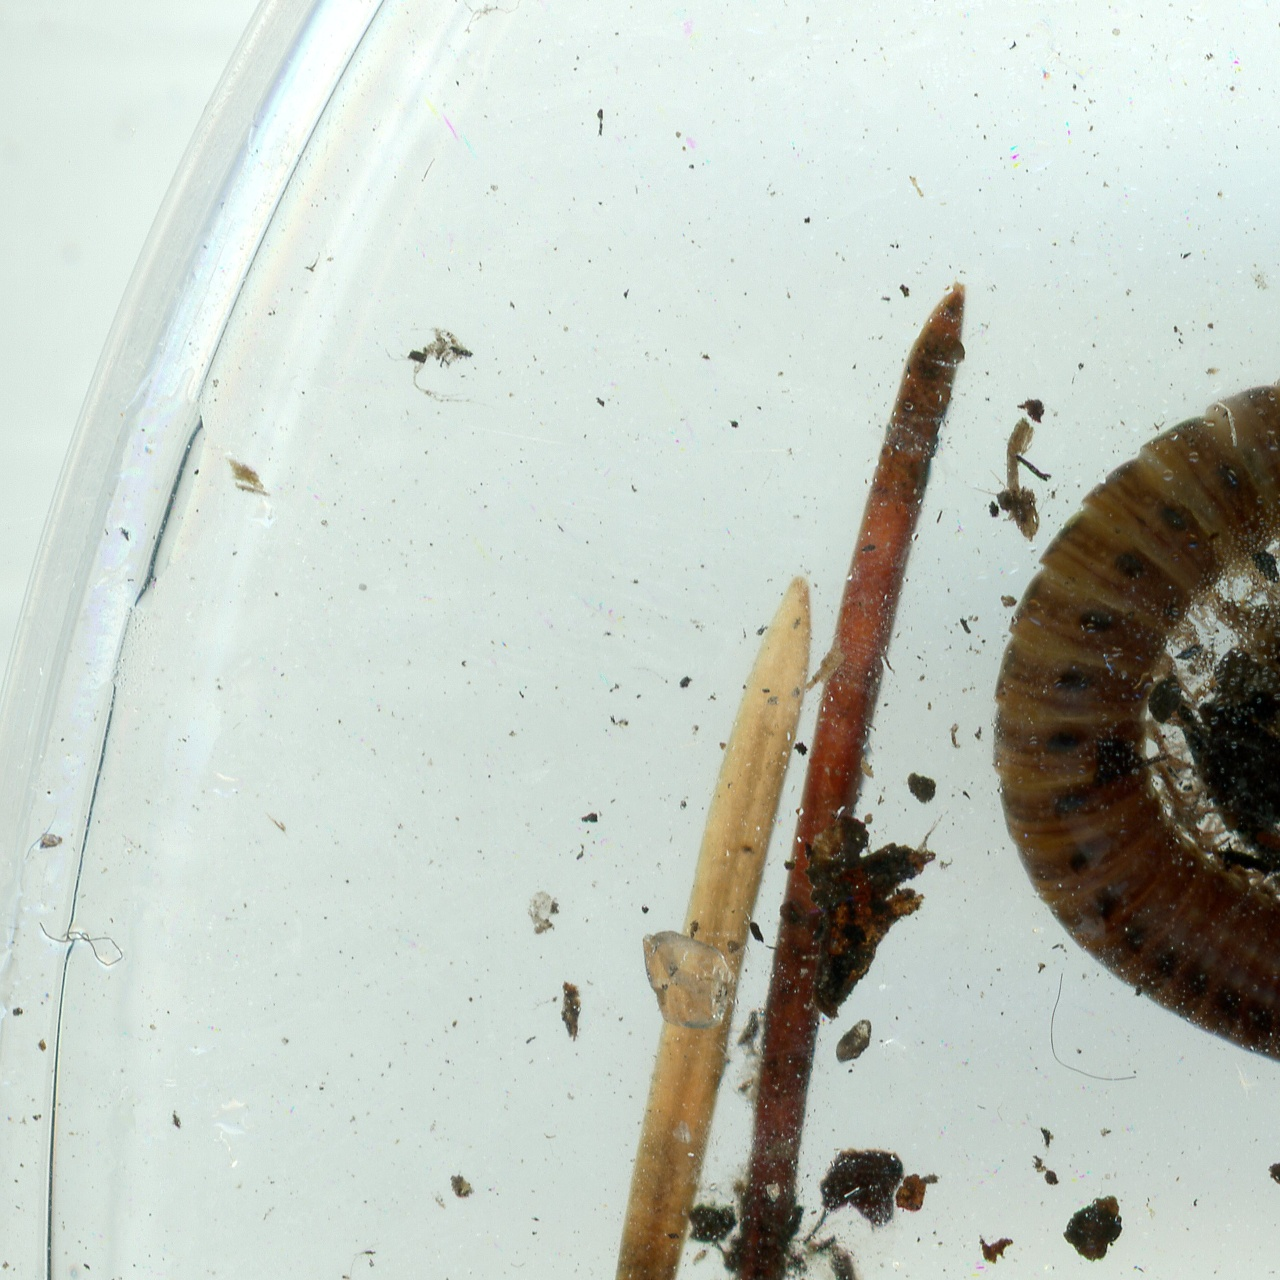arthropod: (981, 353, 1280, 1085), (971, 468, 1047, 550)
